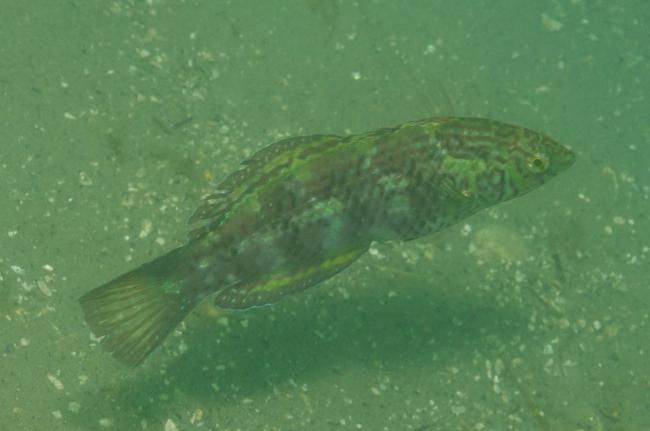fish: (78, 116, 576, 369)
